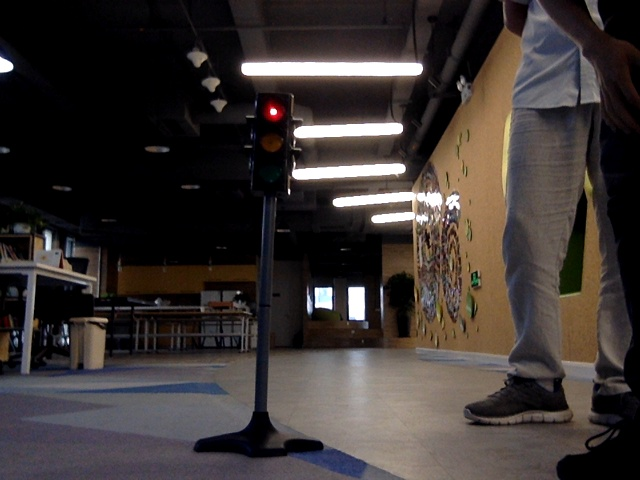red: (254, 99, 283, 188)
